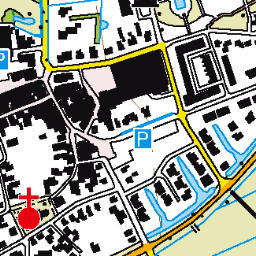church: (14, 185, 43, 233)
